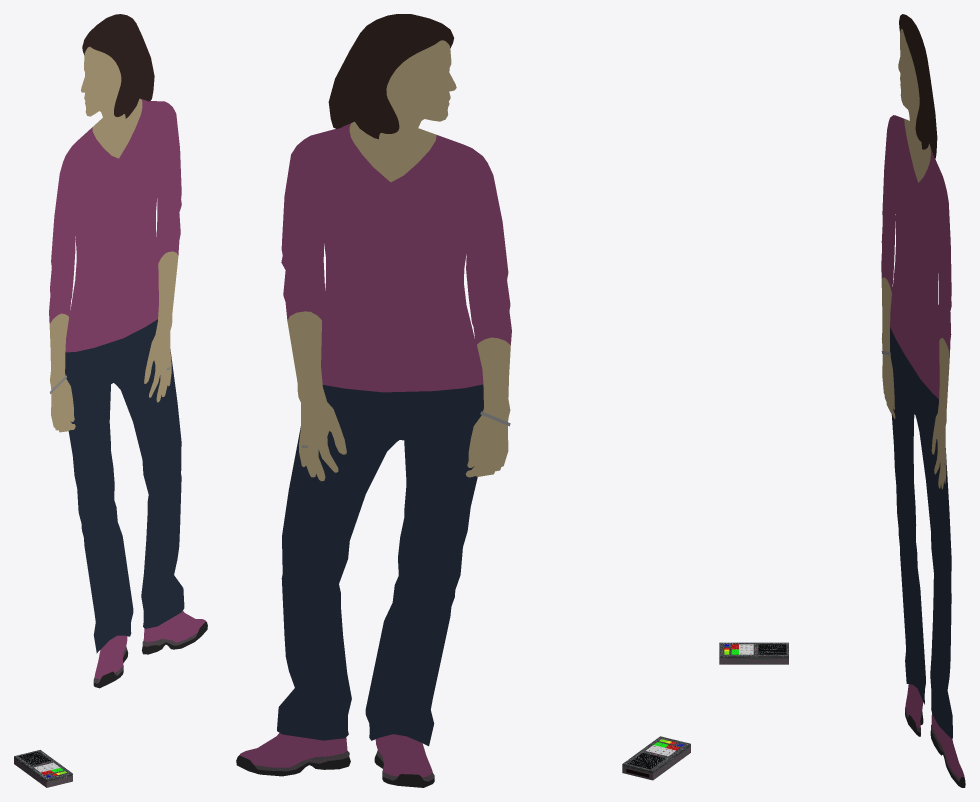
Rendered from scanner.dae.
3 renders of one model, left to right at view 1: azimuth 30°, elevation 25°; view 2: azimuth 150°, elevation 25°; view 3: azimuth 270°, elevation 25°, orthographic. The views are drawn at different scales.
Visible parts, largest first — view 1: Susan (×10), SketchUp (×2); view 2: Susan (×10); view 3: Susan (×9), SketchUp (×2).
Part boxes in pixels (x1=…): Susan (×10): x1=49, y1=14, x2=207, y2=679; SketchUp (×2): x1=14, y1=750, x2=72, y2=787; Susan (×10): x1=236, y1=14, x2=511, y2=777; Susan (×9): x1=881, y1=14, x2=964, y2=779; SketchUp (×2): x1=719, y1=642, x2=788, y2=664.
Bounding box in the file's own units: 28.93 × 20.93 × 66.6.
